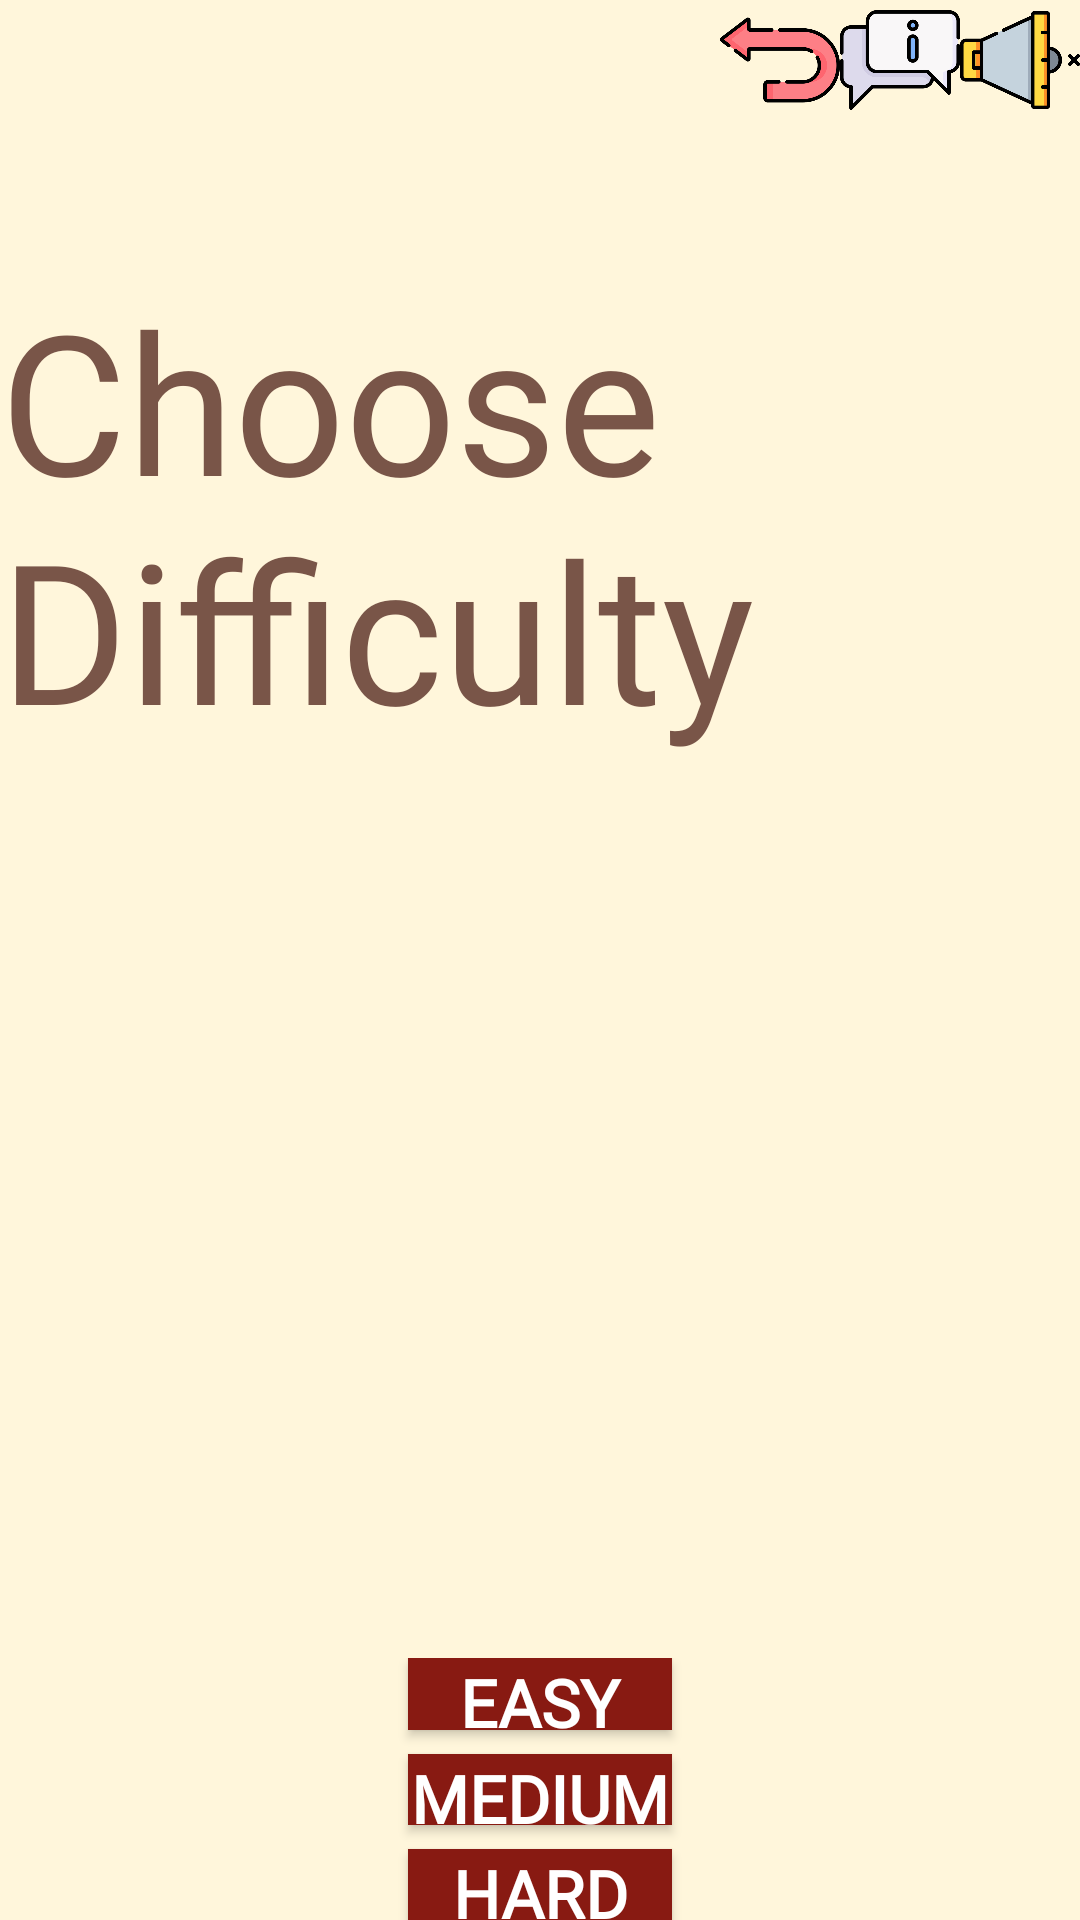

Locate icon controls on the screen. Image size 1080 × 1920, boxes as [x1,y1,x2,y2].
back: [720,17,840,103]
info: [840,10,960,110]
sound off: [960,11,1080,109]
